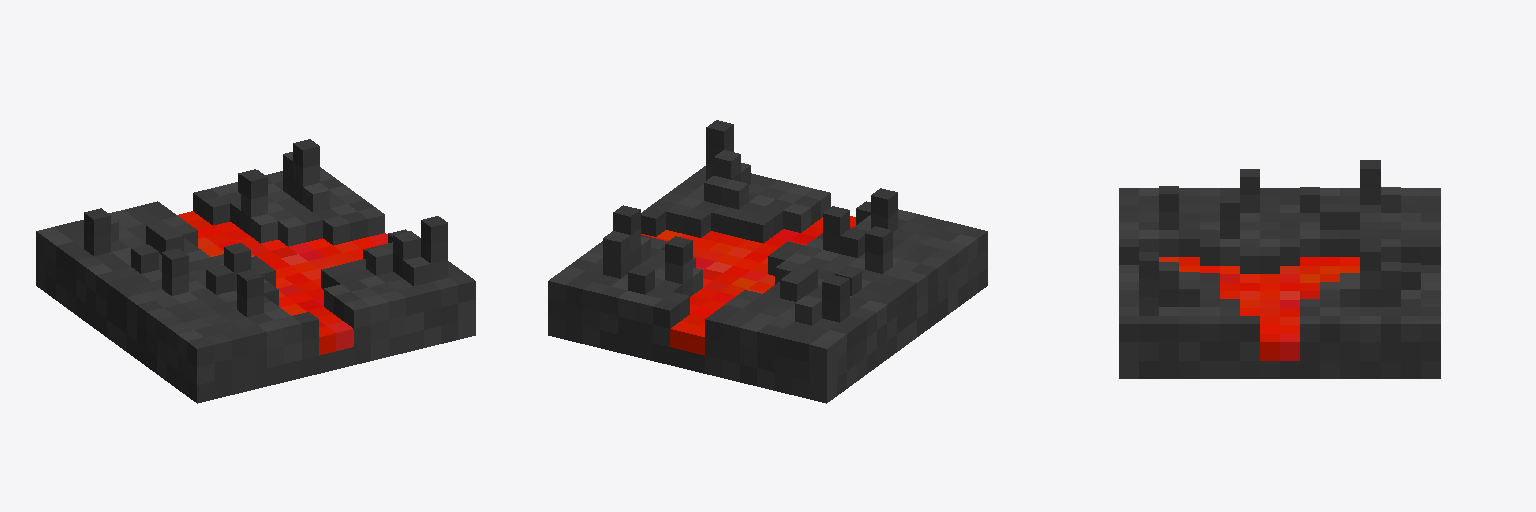
The picture shows the model from 3 angles: view 1: azimuth 30°, elevation 25°; view 2: azimuth 150°, elevation 25°; view 3: azimuth 270°, elevation 25°; orthographic projection.
Visible parts, largest first — view 1: CaveT; view 2: CaveT; view 3: CaveT.
Part boxes in pixels (x1,y1,x2,y2): CaveT: (36, 139, 475, 403); CaveT: (548, 120, 987, 403); CaveT: (1119, 160, 1440, 378).
Size of the model in its own units: 16 by 6 by 16.
1 materials, 1 textured.